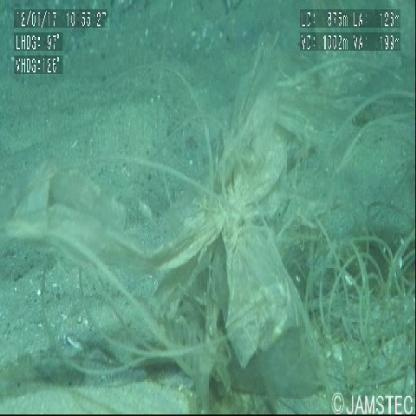Rác: (12, 105, 407, 385)
